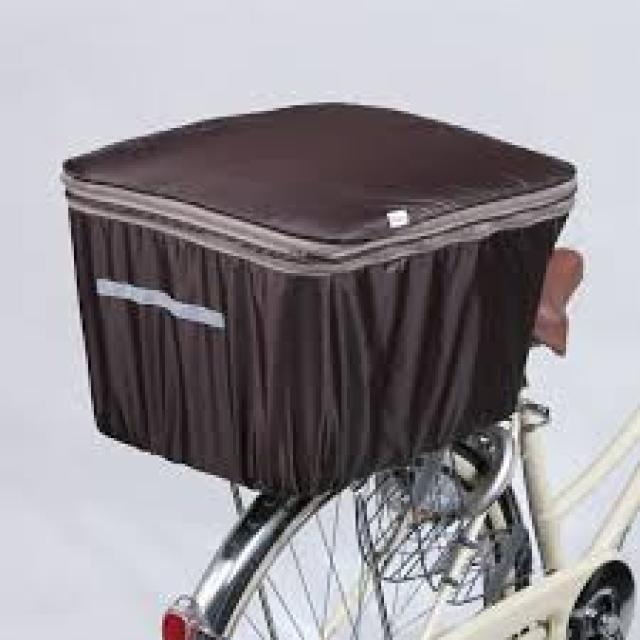basket: (64, 101, 577, 493)
